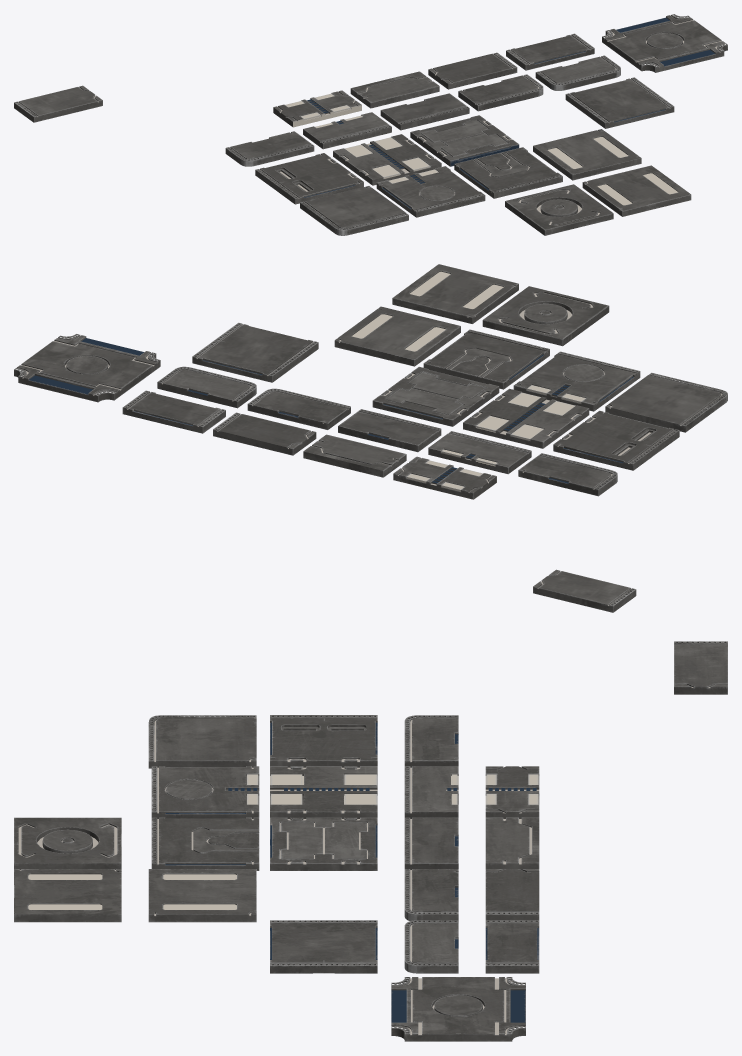
File: modular_sci-fi_floor.glb
3 renders of one model, top to bottom at view 1: azimuth 30°, elevation 25°; view 2: azimuth 150°, elevation 25°; view 3: azimuth 270°, elevation 25°, orthographic. The views are drawn at different scales.
Parts seen in each view (by area): view 1: Cube.009, Cube.021, Cube.019, Cube.020, Cube.016, Cube.012, Cube.018, Cube.000, Cube.015, Cube.014, Cube.013, Cube.007 (+9 smaller); view 2: Cube.009, Cube.020, Cube.019, Cube.021, Cube.014, Cube.013, Cube.015, Cube.012, Cube.016, Cube.018, Cube.000, Cube.004 (+9 smaller); view 3: Cube.009, Cube.019, Cube.012, Cube.021, Cube.013, Cube.016, Cube.000, Cube.015, Cube.014, Cube.020, Cube.018, Cube.008 (+9 smaller).
Part boxes in pixels (x1,y1,x2,y2): Cube.009: (602,14,727,72); Cube.021: (582,165,691,216); Cube.019: (533,129,641,180); Cube.020: (505,184,613,235); Cube.016: (300,186,408,235); Cube.012: (565,77,674,128); Cube.018: (454,147,562,198); Cube.000: (376,166,485,217); Cube.015: (255,153,363,204); Cube.014: (333,134,441,185); Cube.013: (410,115,519,166); Cube.007: (428,52,517,89); Cube.009: (14,334,160,402); Cube.020: (482,286,609,346); Cube.019: (334,306,460,366); Cube.021: (392,264,518,323); Cube.014: (463,388,589,448); Cube.013: (372,366,499,426); Cube.015: (553,410,679,470); Cube.012: (192,322,318,382); Cube.016: (605,372,727,432); Cube.018: (423,329,549,389); Cube.000: (513,351,640,411); Cube.004: (428,431,531,474); Cube.009: (391,977,525,1041); Cube.019: (148,869,256,922); Cube.012: (270,920,377,973); Cube.021: (14,869,121,922); Cube.013: (270,817,377,870); Cube.016: (148,715,256,768); Cube.000: (151,766,259,818); Cube.015: (270,715,377,767); Cube.014: (270,766,377,818); Cube.020: (14,817,121,870); Cube.018: (151,817,259,870); Cube.008: (485,920,539,973).
Size of the model in its own units: 6900 by 65.43 by 5300.
1 material, 1 textured.
